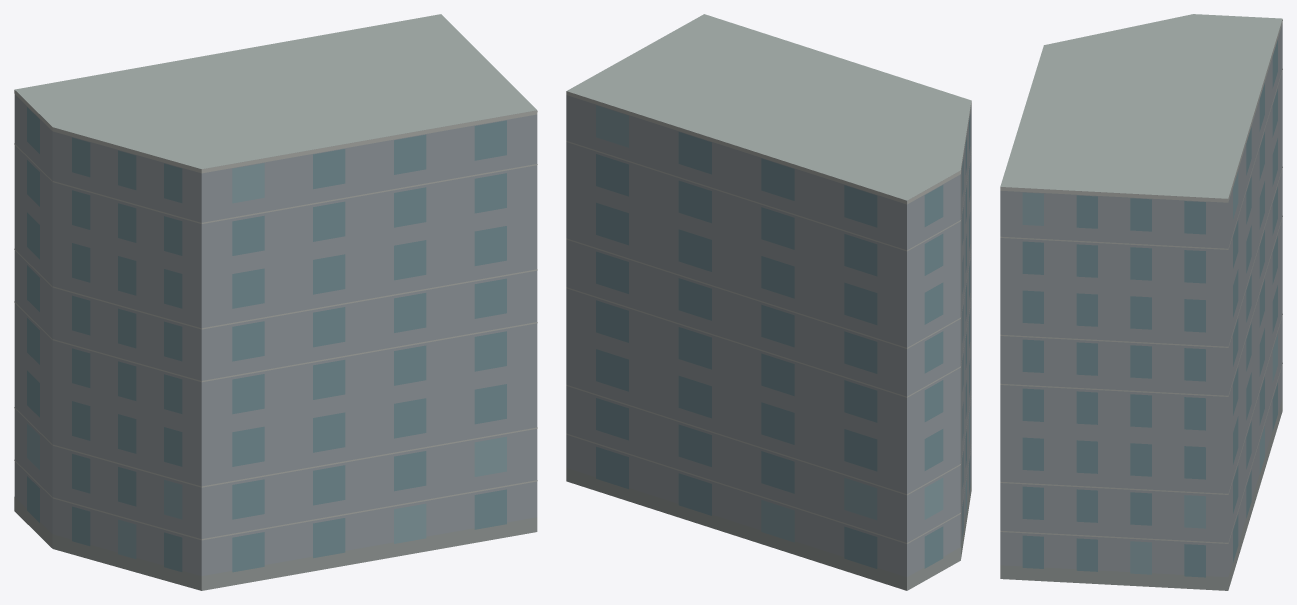
Rendered from residential-816ca396-aebc-4fb4-a411-6f76b57e7741.glb.
3 views of the same model, side by side, from view 1: azimuth 30°, elevation 25°; view 2: azimuth 150°, elevation 25°; view 3: azimuth 270°, elevation 25° (orthographic). The views are drawn at different scales.
Parts seen in each view (by area): view 1: residential-816ca396-aebc-4fb4-a411-6f76b57e7741.tmp; view 2: residential-816ca396-aebc-4fb4-a411-6f76b57e7741.tmp; view 3: residential-816ca396-aebc-4fb4-a411-6f76b57e7741.tmp.
Boxes of the visible parts, x1,y1,x2,y2 form: residential-816ca396-aebc-4fb4-a411-6f76b57e7741.tmp: [14, 14, 537, 590]; residential-816ca396-aebc-4fb4-a411-6f76b57e7741.tmp: [566, 14, 971, 590]; residential-816ca396-aebc-4fb4-a411-6f76b57e7741.tmp: [1000, 14, 1282, 590].
Size of the model in its own units: 24.69 by 24.4 by 15.96.
